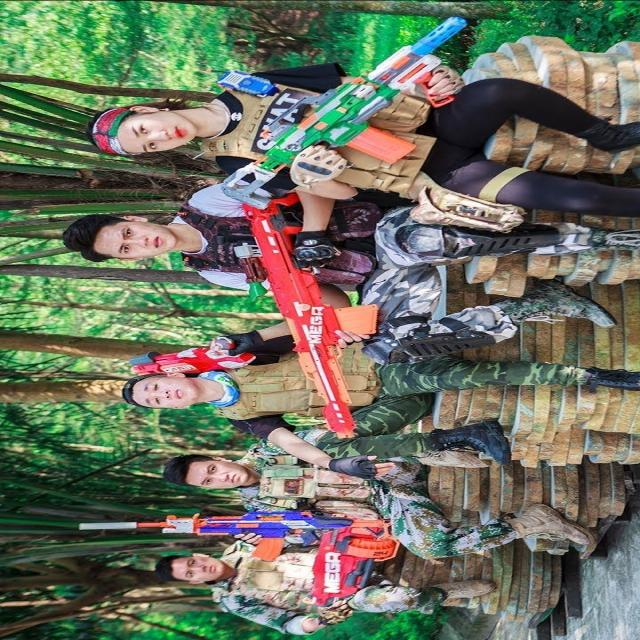Nerf gun: (225, 15, 472, 209), (230, 192, 382, 448), (73, 500, 398, 569), (302, 516, 402, 614), (108, 333, 258, 382)
